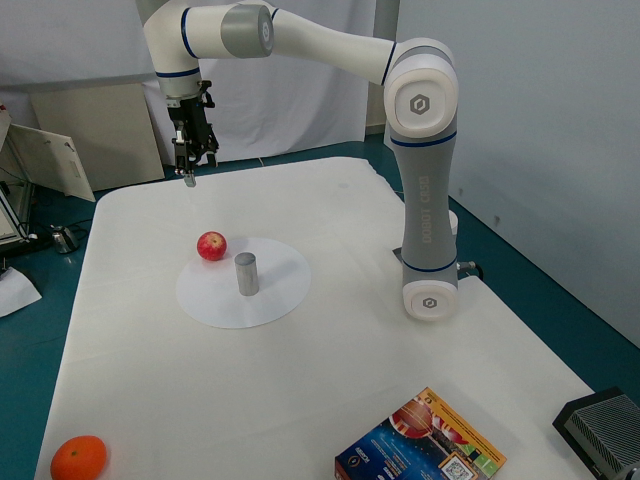apple: (196, 223, 228, 266)
metalROD: (230, 246, 266, 302)
